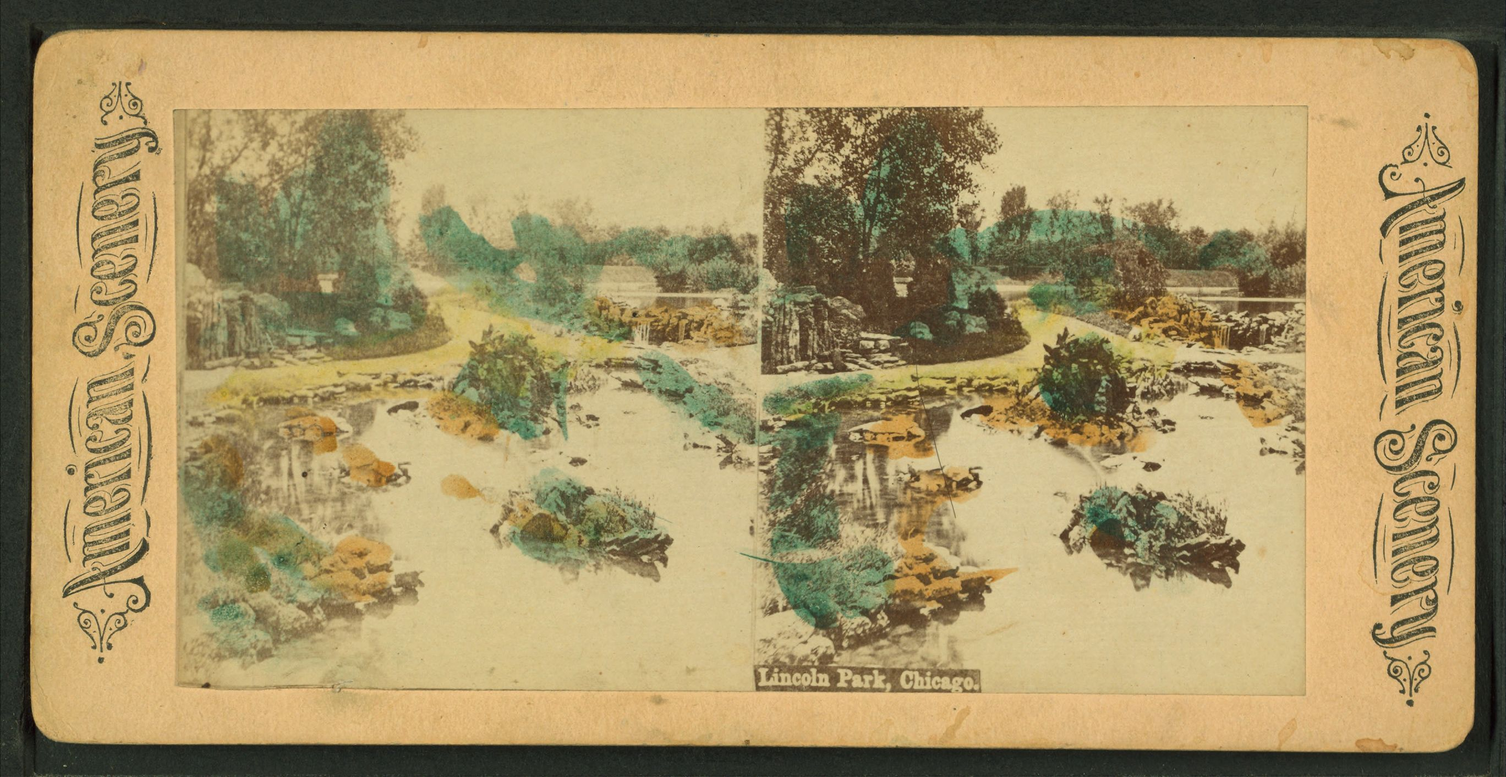half_image: (174, 108, 764, 690), (757, 107, 1308, 695)
